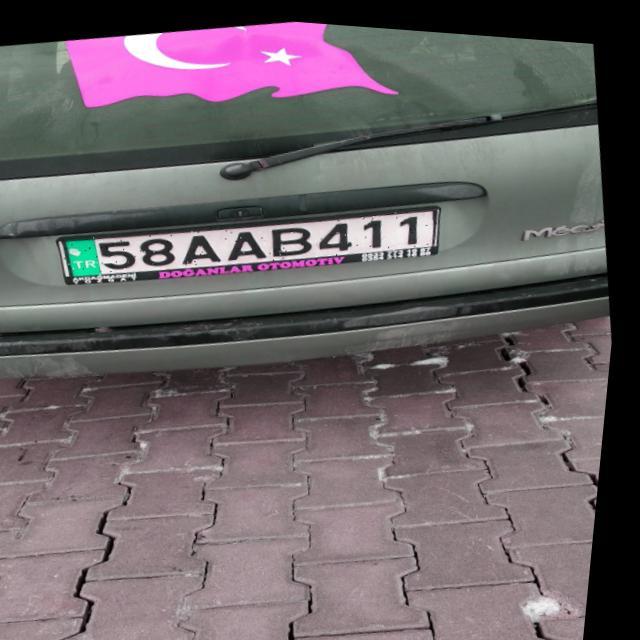license_plate: (61, 181, 446, 299)
